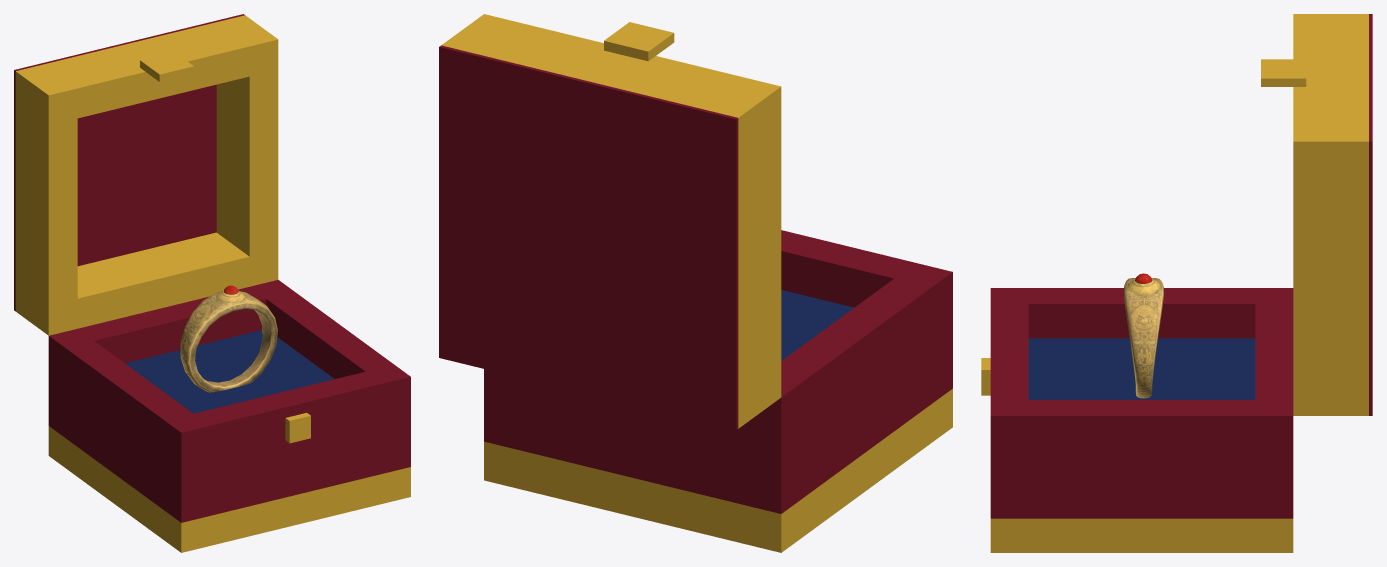
Rendered from hop-nhan-co-nhan.glb.
The picture shows the model from 3 angles, left to right: view 1: azimuth 30°, elevation 25°; view 2: azimuth 150°, elevation 25°; view 3: azimuth 270°, elevation 25°; orthographic projection. The views are drawn at different scales.
Parts seen in each view (by area): view 1: hop-nhan-co-nhan; view 2: hop-nhan-co-nhan; view 3: hop-nhan-co-nhan.
Part boxes in pixels (x1,y1,x2,y2): hop-nhan-co-nhan: (14,14,410,552); hop-nhan-co-nhan: (439,14,952,552); hop-nhan-co-nhan: (981,14,1372,552).
Bounding box in the file's own units: 0.4571 × 0.7 × 0.5914.
Materials: 4 (1 with a texture image).
